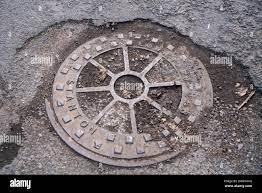closed manhole-not overflowing-: (49, 28, 209, 162)
